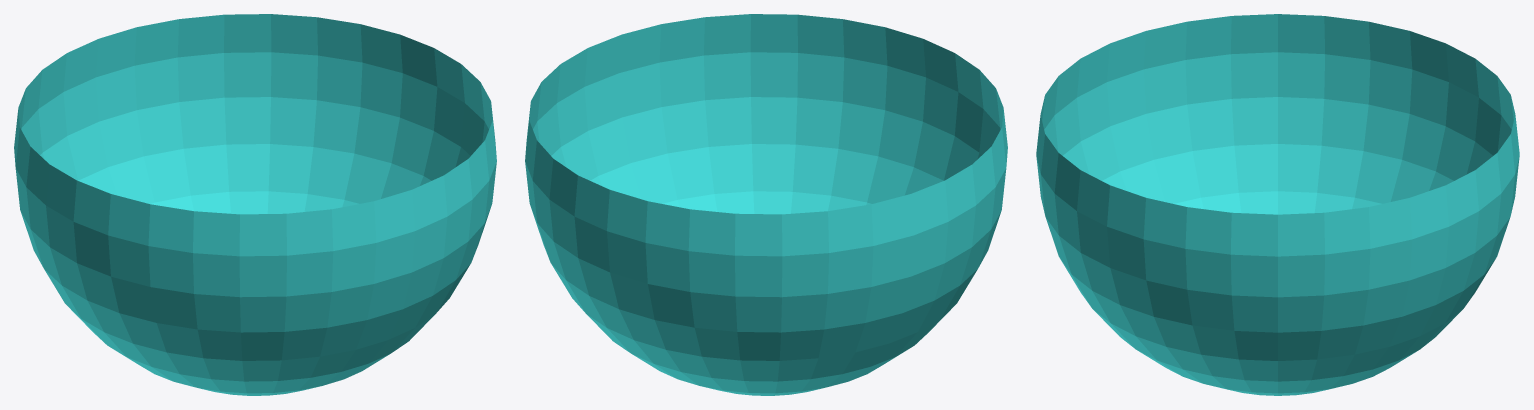
File: neutralidad_pieza2.fbx
The picture shows the model from 3 angles, left to right: view 1: azimuth 30°, elevation 25°; view 2: azimuth 150°, elevation 25°; view 3: azimuth 270°, elevation 25°; orthographic projection.
Parts seen in each view (by area): view 1: Sphere.003; view 2: Sphere.003; view 3: Sphere.003.
Boxes of the visible parts, box(x1,y1,x2,y2) form: Sphere.003: box(14, 14, 496, 395); Sphere.003: box(525, 14, 1007, 395); Sphere.003: box(1036, 14, 1519, 395).
Size of the model in its own units: 400 by 237 by 400.
